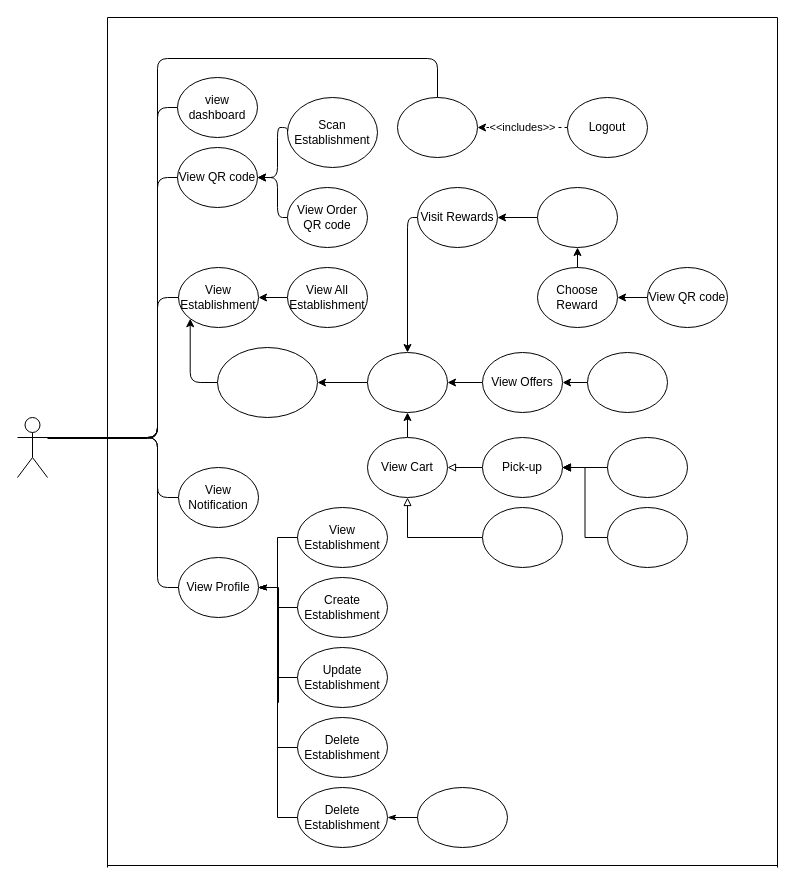
The diagram is 796 pixels wide and 886 high, and some of its shapes have lost their labels. The centre of each missing label's shape, as x and y in pixels:
"Add Offers to Cart" goes at (x=627, y=382).
"Change Options" goes at (x=647, y=537).
"Delivery" goes at (x=522, y=537).
"Log in" goes at (x=437, y=127).
"Update Account" goes at (x=462, y=817).
"User" goes at (x=32, y=447).
"View Order Details" goes at (x=647, y=467).
"View Rewards" goes at (x=577, y=217).
"View Subscribed Establishment" goes at (x=267, y=382).
"Visit Establishment" goes at (x=407, y=382).
